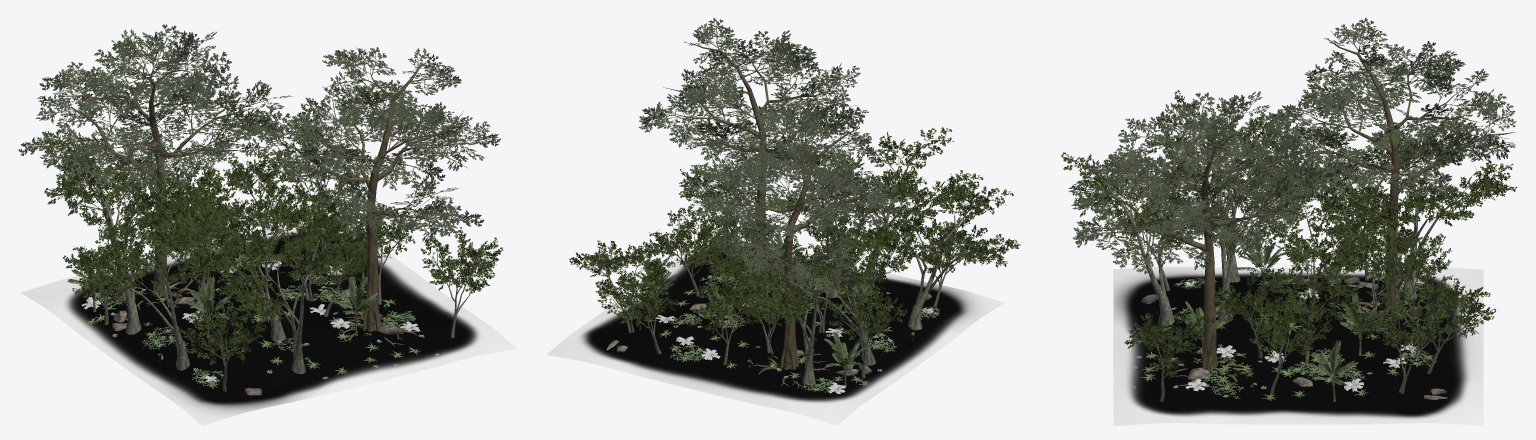
The model's file is O_004_groundB_01_01.fbx.
The picture shows the model from 3 angles, left to right: view 1: azimuth 30°, elevation 25°; view 2: azimuth 150°, elevation 25°; view 3: azimuth 270°, elevation 25°; orthographic projection. The views are drawn at different scales.
Parts seen in each view (by area): view 1: Ground001, TreeB008, TreeB004, TreeB006, TreeB002, TreeB003, Banyan, TreeA015, TreeA026, Banyan002, TreeC018, TreeA025 (+9 smaller); view 2: Ground001, TreeB008, TreeB002, TreeB003, TreeB004, TreeB006, TreeC018, TreeA025, TreeA020, Banyan002, TreeC017, TreeA022 (+8 smaller); view 3: Ground001, TreeB003, TreeB004, TreeC018, TreeC017, TreeB002, TreeB006, Banyan, TreeA023, TreeC020, TreeC019, TreeB008 (+11 smaller).
Part boxes in pixels (bbox=[...]): Ground001: bbox=[21, 217, 517, 425]; TreeB008: bbox=[71, 209, 259, 370]; TreeB004: bbox=[216, 201, 365, 373]; TreeB006: bbox=[150, 181, 357, 340]; TreeB002: bbox=[44, 142, 221, 334]; TreeB003: bbox=[42, 135, 220, 300]; Banyan: bbox=[273, 61, 464, 331]; TreeA015: bbox=[420, 227, 502, 337]; TreeA026: bbox=[178, 298, 266, 391]; Banyan002: bbox=[58, 61, 242, 297]; TreeC018: bbox=[283, 122, 371, 249]; TreeA025: bbox=[223, 145, 296, 247]; Ground001: bbox=[546, 232, 1004, 425]; TreeB008: bbox=[854, 178, 1020, 330]; TreeB002: bbox=[759, 218, 923, 365]; TreeB003: bbox=[735, 221, 876, 384]; TreeB004: bbox=[795, 127, 983, 287]; TreeB006: bbox=[764, 142, 926, 297]; TreeC018: bbox=[569, 240, 675, 333]; TreeA025: bbox=[595, 265, 678, 354]; TreeA020: bbox=[824, 280, 907, 378]; Banyan002: bbox=[704, 132, 890, 369]; TreeC017: bbox=[676, 217, 780, 313]; TreeA022: bbox=[693, 275, 767, 365]; Ground001: bbox=[1113, 266, 1483, 425]; TreeB003: bbox=[1306, 119, 1517, 300]; TreeB004: bbox=[1061, 152, 1248, 325]; TreeC018: bbox=[1346, 282, 1470, 393]; TreeC017: bbox=[1269, 232, 1362, 363]; TreeB002: bbox=[1264, 122, 1460, 283]; TreeB006: bbox=[1157, 121, 1306, 322]; Banyan: bbox=[1083, 135, 1312, 371]; TreeA023: bbox=[1246, 290, 1332, 394]; TreeC020: bbox=[1268, 185, 1380, 304]; TreeC019: bbox=[1321, 214, 1427, 321]; TreeB008: bbox=[1144, 90, 1320, 282].
Size of what is drawn, in the model's own units: 2520 by 1672 by 2480.
